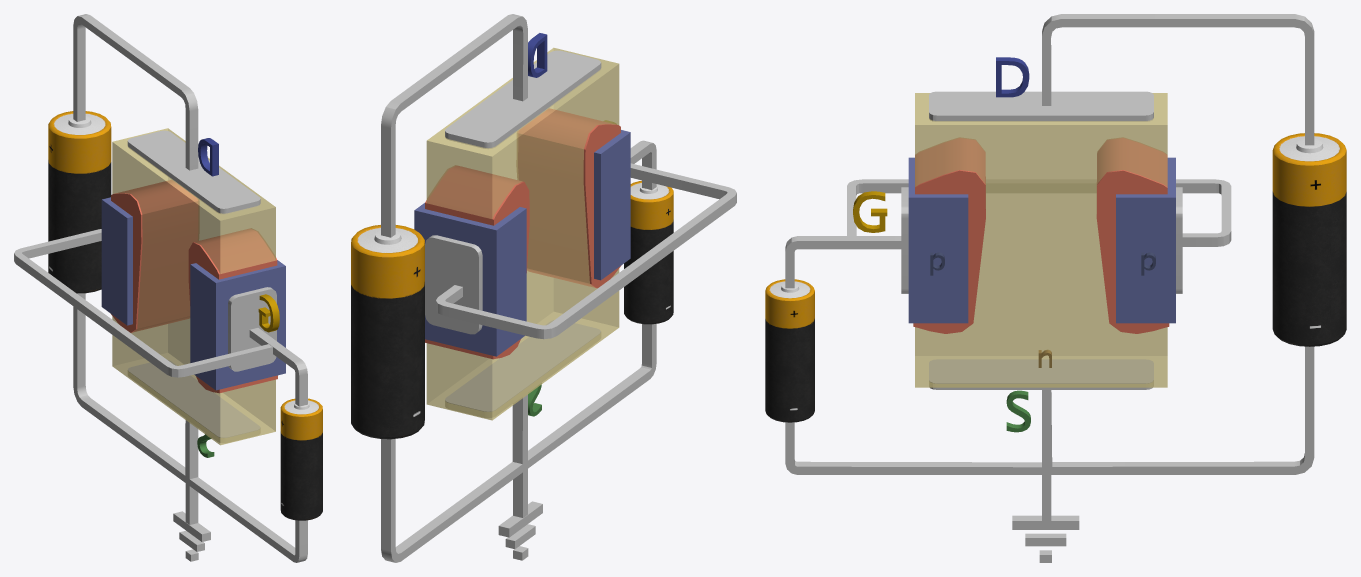
Rendered from JFET nguyen ly.fbx.
The picture shows the model from 3 angles, left to right: view 1: azimuth 30°, elevation 25°; view 2: azimuth 150°, elevation 25°; view 3: azimuth 270°, elevation 25°; orthographic projection. The views are drawn at different scales.
Visible parts, largest first — view 1: pCube2, battery, pCube5, pCube9, pCube4, battery1, pCube13, pCube8, pCube7, pCube10, pCube3, pCube6 (+4 smaller); view 2: pCube2, battery, pCube6, pCube9, pCube3, pCube13, pCube8, pCube7, battery1, pCube4, pCube5, pCube10 (+3 smaller); view 3: pCube2, battery, pCube9, pCube4, pCube3, pCube8, battery1, pCube7, pCube10, pCube5, pCube6, pCube13 (+5 smaller).
Boxes of the visible parts, x1=… form: pCube2: x1=112, y1=128, x2=275, y2=445; battery: x1=48, y1=111, x2=111, y2=293; pCube5: x1=110, y1=180, x2=198, y2=332; pCube9: x1=73, y1=14, x2=198, y2=485; pCube4: x1=190, y1=260, x2=285, y2=390; battery1: x1=280, y1=398, x2=322, y2=520; pCube13: x1=14, y1=229, x2=273, y2=377; pCube8: x1=128, y1=360, x2=260, y2=442; pCube7: x1=127, y1=130, x2=260, y2=214; pCube10: x1=185, y1=328, x2=307, y2=562; pCube3: x1=101, y1=197, x2=132, y2=325; pCube6: x1=188, y1=228, x2=277, y2=393; pCube2: x1=426, y1=47, x2=619, y2=420; battery: x1=351, y1=225, x2=424, y2=439; pCube6: x1=517, y1=108, x2=621, y2=288; pCube9: x1=381, y1=14, x2=527, y2=562; pCube3: x1=414, y1=203, x2=526, y2=356; pCube13: x1=436, y1=163, x2=736, y2=339; pCube8: x1=445, y1=320, x2=600, y2=417; pCube7: x1=445, y1=50, x2=601, y2=148; battery1: x1=624, y1=181, x2=673, y2=324; pCube4: x1=594, y1=130, x2=630, y2=280; pCube5: x1=425, y1=165, x2=529, y2=359; pCube10: x1=513, y1=140, x2=656, y2=517; pCube2: x1=915, y1=93, x2=1167, y2=387; battery: x1=1272, y1=133, x2=1346, y2=346; pCube9: x1=1042, y1=14, x2=1314, y2=474; pCube4: x1=908, y1=157, x2=968, y2=323; pCube3: x1=1116, y1=157, x2=1175, y2=323; pCube8: x1=929, y1=359, x2=1153, y2=389; battery1: x1=765, y1=279, x2=814, y2=422; pCube7: x1=929, y1=91, x2=1153, y2=121; pCube10: x1=785, y1=236, x2=1051, y2=520; pCube5: x1=1096, y1=138, x2=1169, y2=333; pCube6: x1=913, y1=138, x2=985, y2=333; pCube13: x1=847, y1=179, x2=1231, y2=246.
Bounding box in the file's own units: 61.7 × 191 × 185.
Materials: 10 (1 with a texture image).
